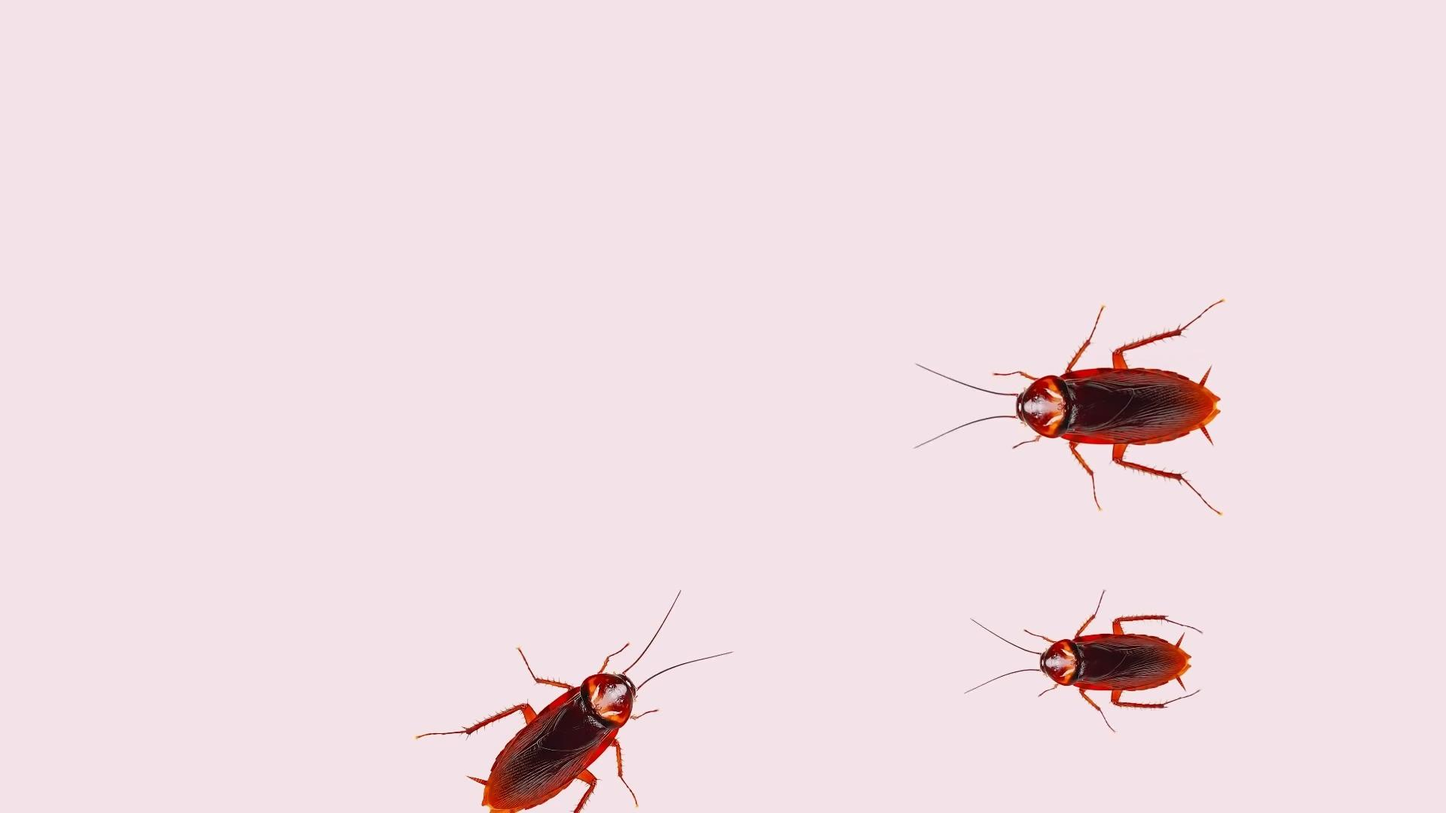cockroach: (938, 352, 1256, 496), (479, 616, 689, 813), (978, 599, 1206, 714)
